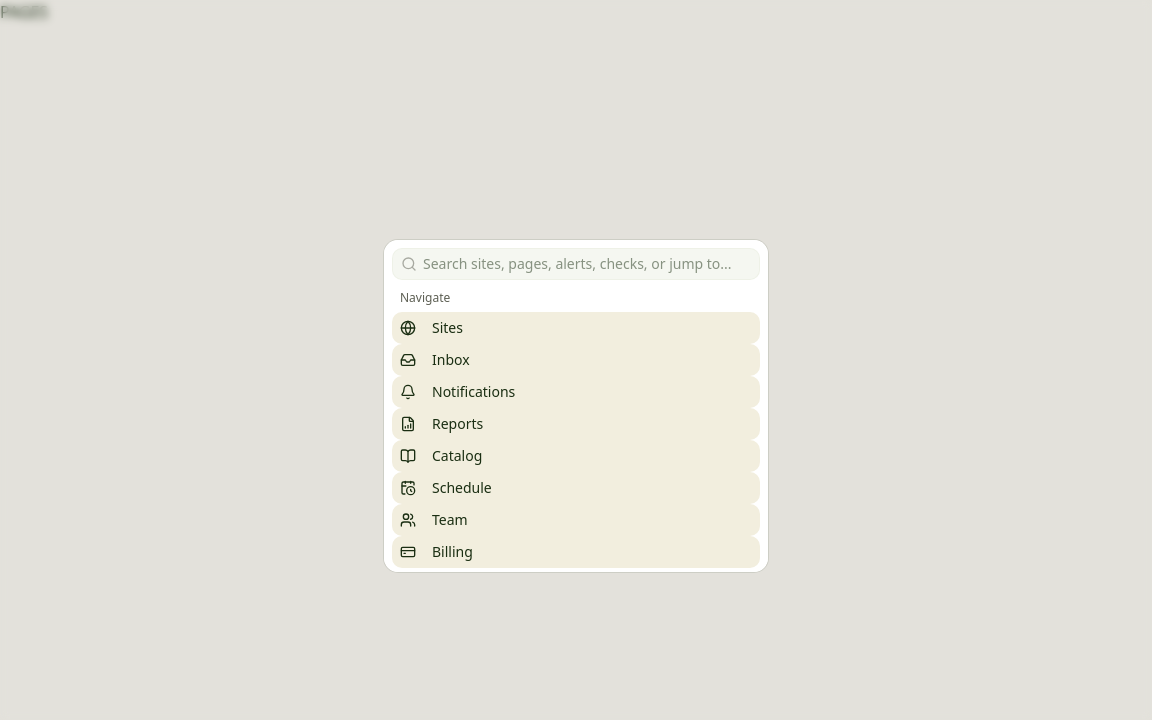
Test: CommandPalette - search wiring › forwards the URL :siteId as activeSiteId and renders the truncated footer when set
Type "acme" into the dropdown with placeholder "Search sites, pages, alerts, checks, or jump to..." at {"x": 588, "y": 264}, box [417,254,759,274]
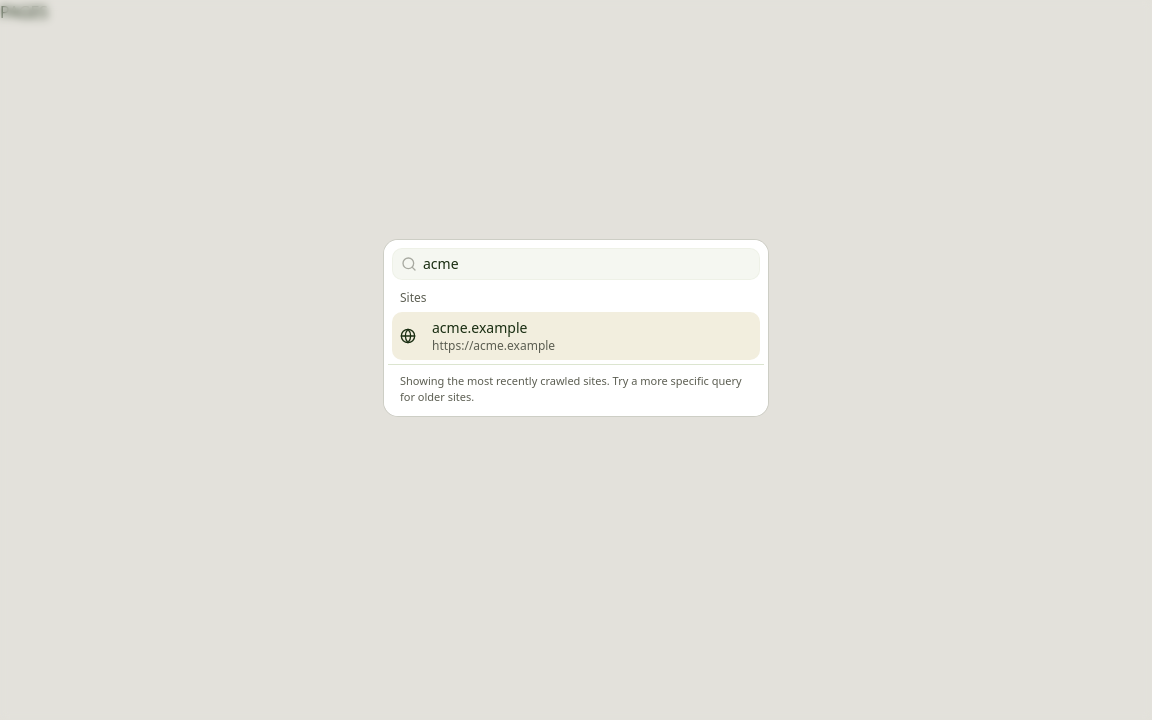
expect the text with test id "cmdk-truncated-footer" shows "most recently crawled sites": met, box [400,373,742,404]
